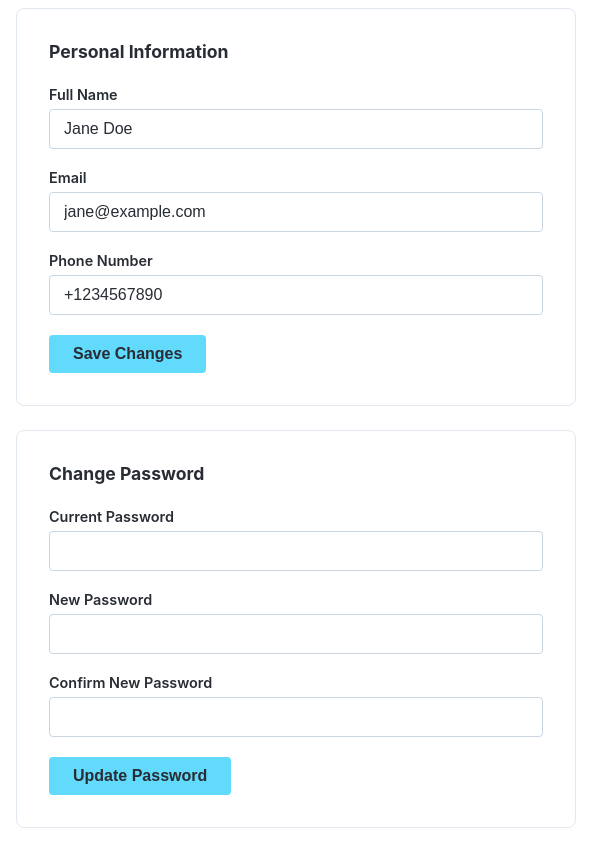
Test: ProfilePage › password change form › shows error when new password is shorter than 8 characters
(page scrolled)
Check: the field labelled "Full Name" is shown, box top-left (49, 109), bottom-right (543, 149)
In the password field labelled "New Password": (296, 634) top-left (49, 614), bottom-right (543, 654), type "short"
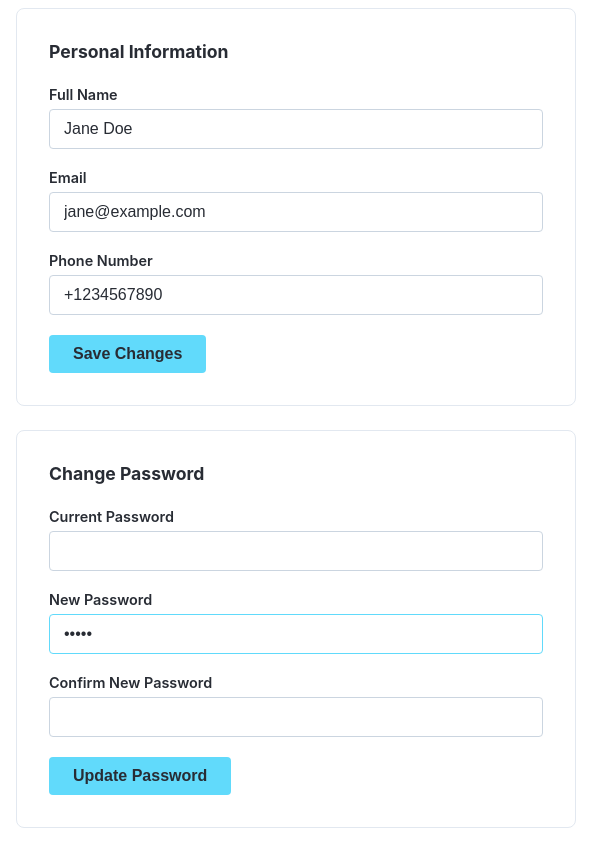
Press Tab
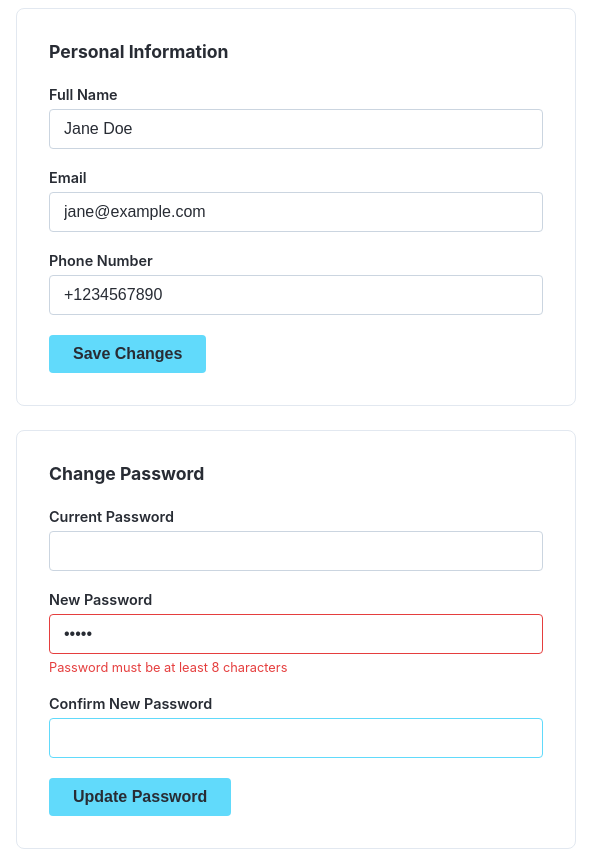
Check: the text "Password must be at least 8 characters" is shown, box top-left (49, 660), bottom-right (287, 675)
